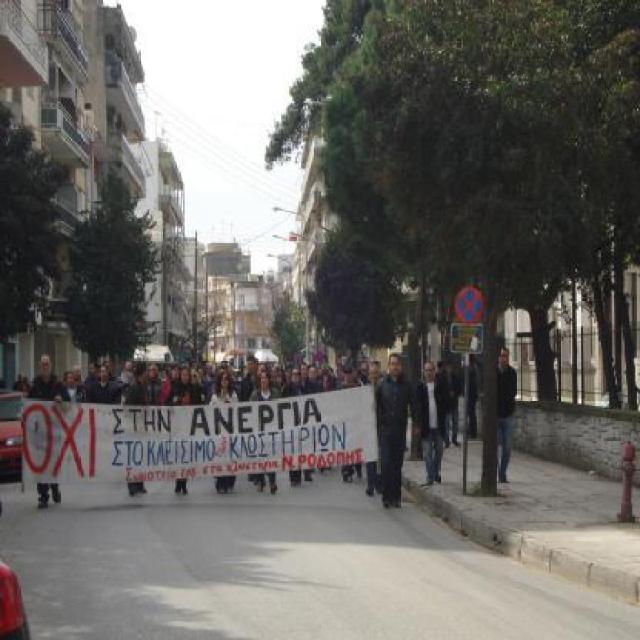Person: (10, 356, 387, 510), (375, 350, 419, 512), (410, 360, 450, 488), (494, 344, 517, 481), (441, 359, 462, 450), (468, 348, 482, 441)
